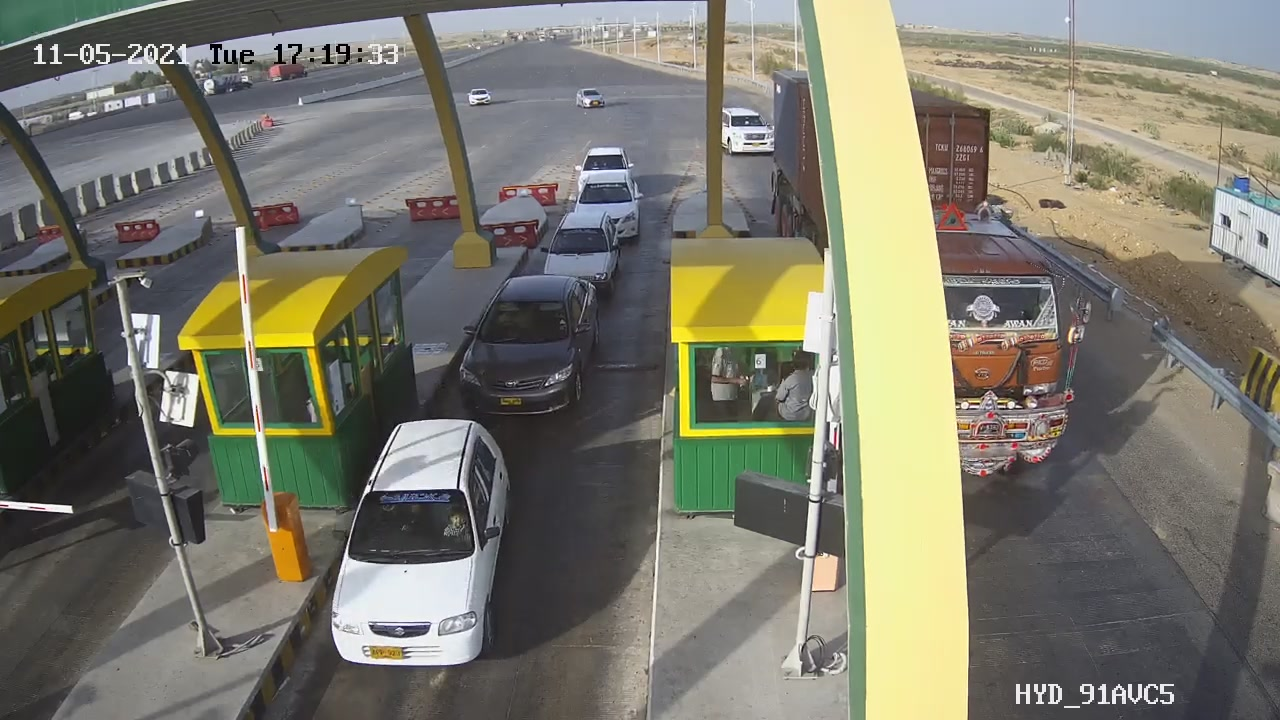F1: (446, 261, 616, 435)
